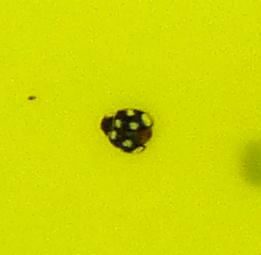Coleoptera: (100, 100, 161, 155)
